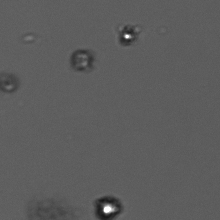Dead Cell: (72, 51, 93, 70), (1, 72, 19, 93)
Living Cell: (98, 199, 118, 217), (120, 29, 135, 42)
